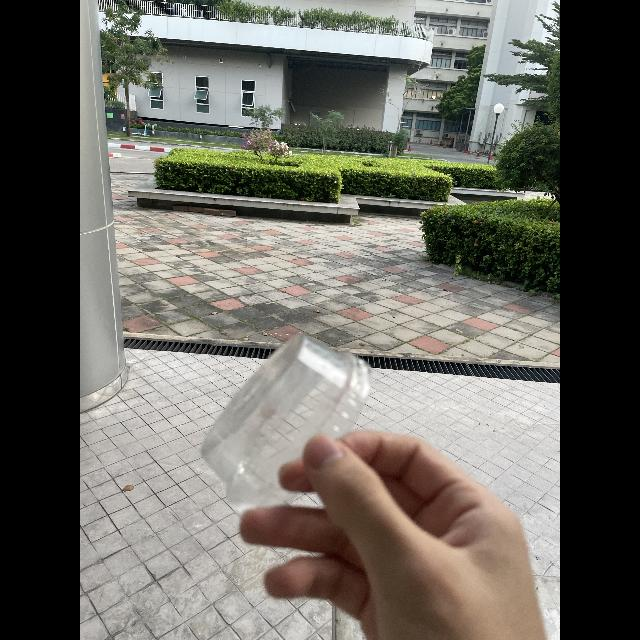plastic_cup_lid: (192, 324, 382, 534)
